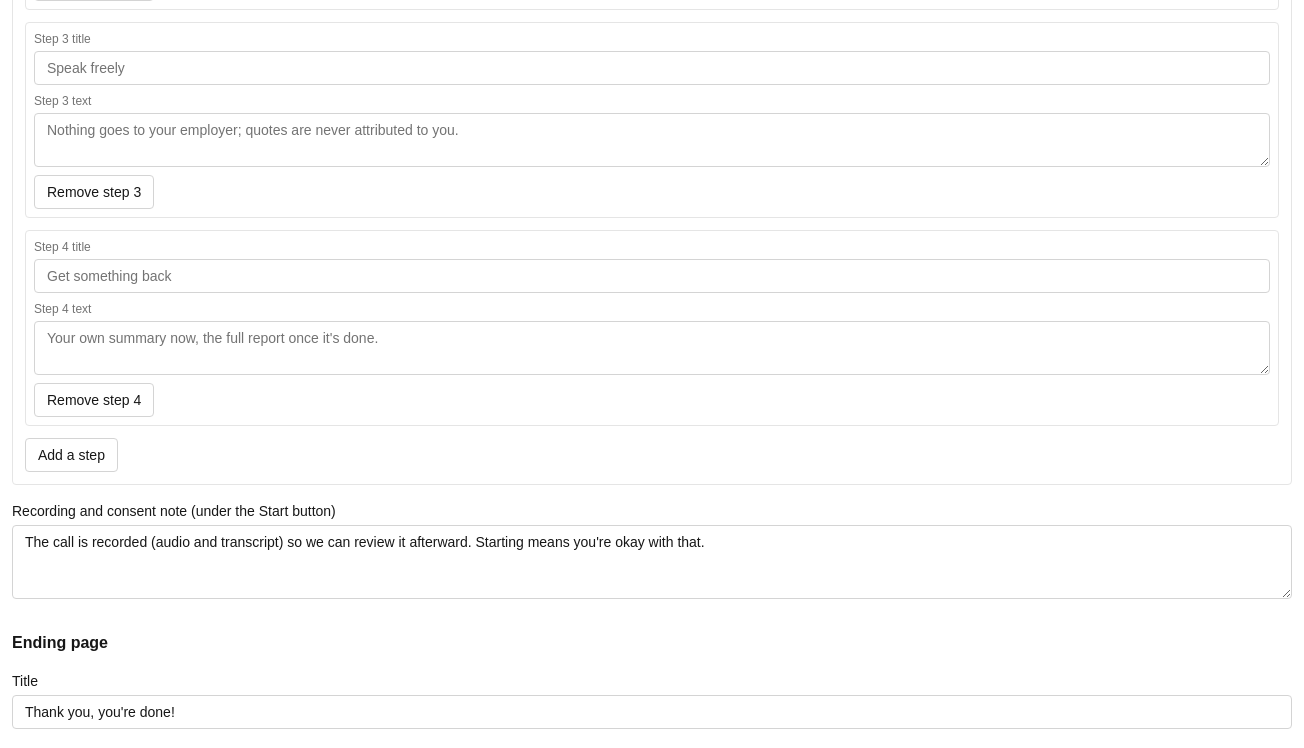
Test case: ParticipantPagesForm › adds and removes facts and steps
The width and height of the screenshot is (1304, 748).
(page scrolled)
Click the button "Remove step 4": (94, 400) [34,383,154,417]
(page scrolled)
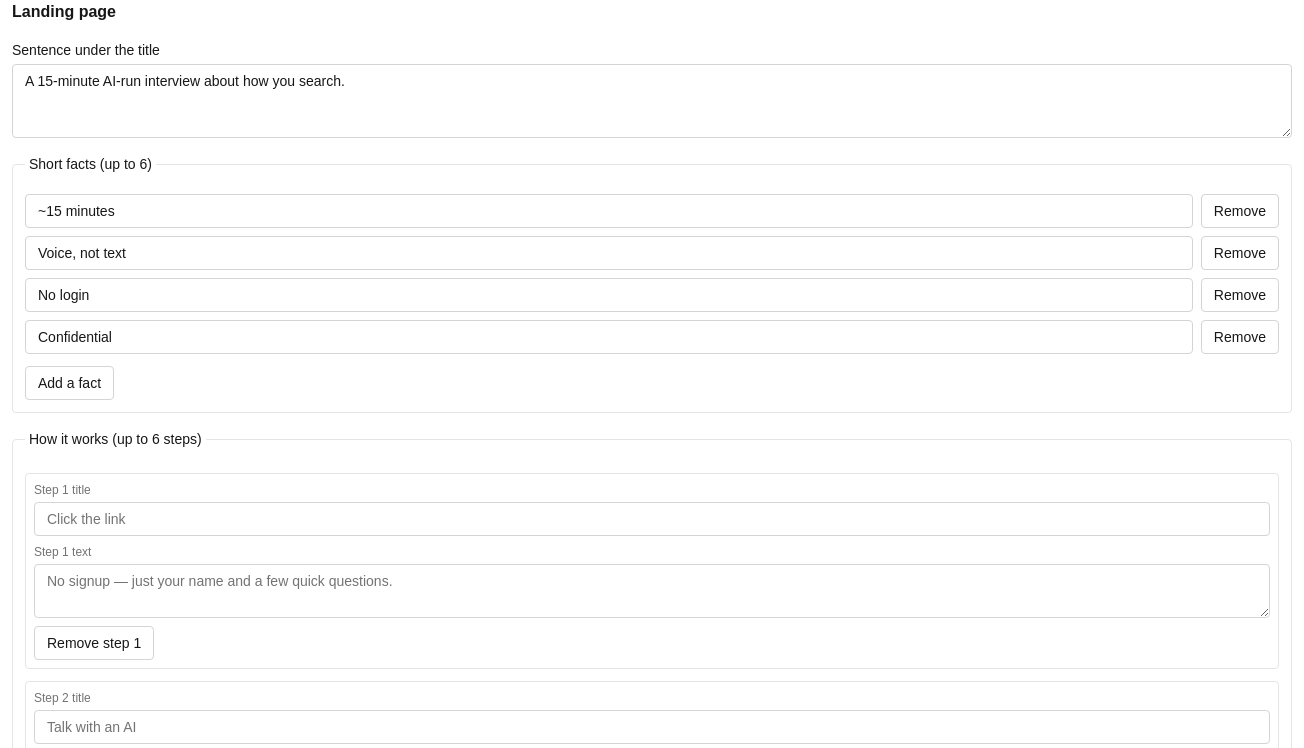
Check: the text "Get something back" is not shown
Click the button "Add a fact": (70, 383) [25,366,114,400]
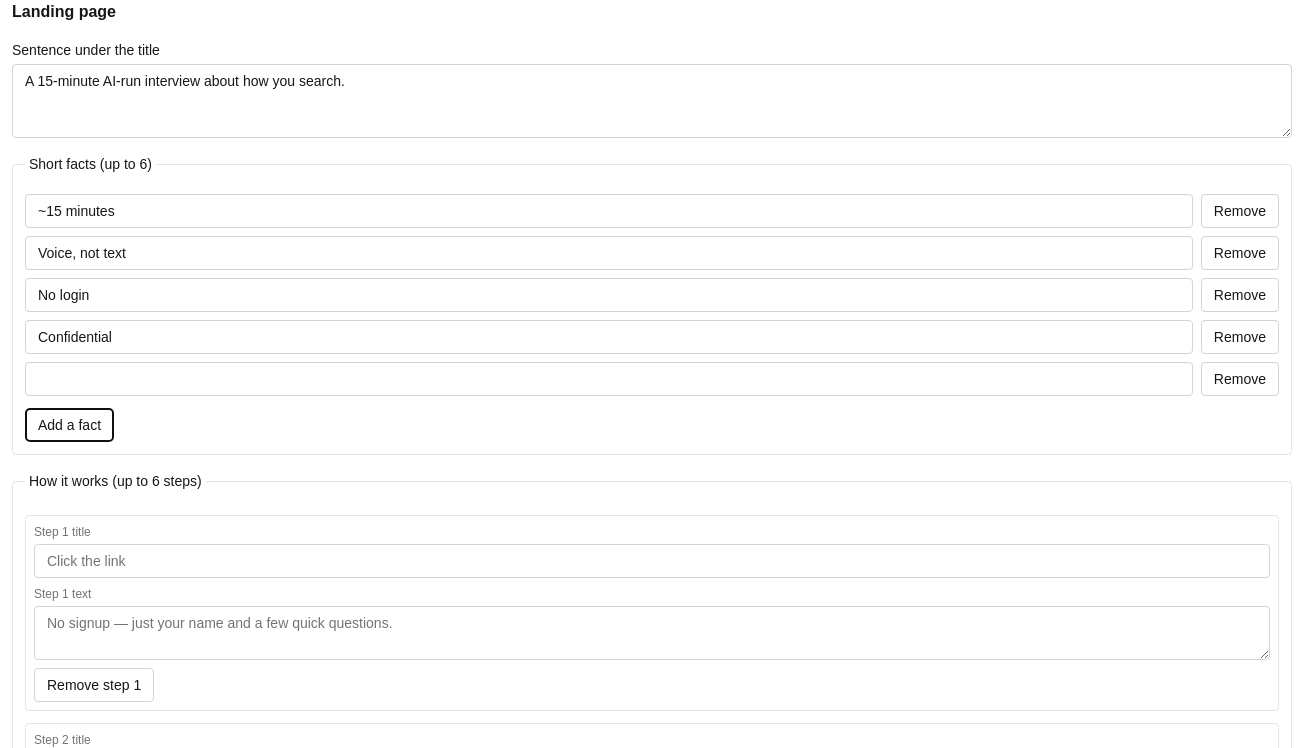
Check: the field named "Fact 5" is shown, box [25,362,1193,396]
